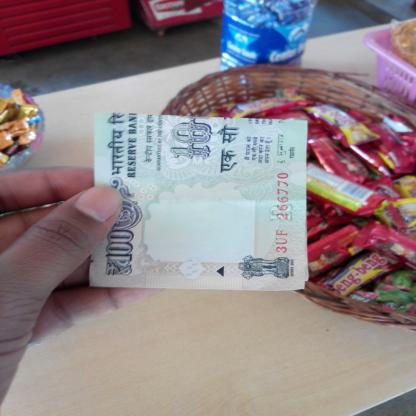Old100Front: (88, 110, 309, 291)
